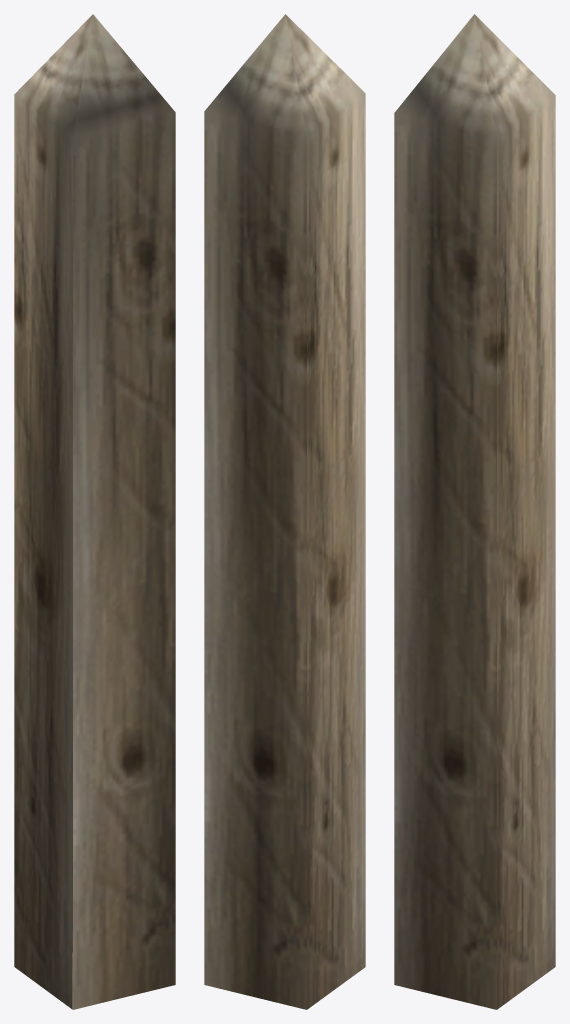
File: westfallfencepost.obj
3 renders of one model, left to right at view 1: azimuth 30°, elevation 25°; view 2: azimuth 150°, elevation 25°; view 3: azimuth 330°, elevation 25°, orthographic.
Visible parts, largest first — view 1: WESTFALLFENCEPOST0; view 2: WESTFALLFENCEPOST0; view 3: WESTFALLFENCEPOST0.
Boxes of the visible parts, x1,y1,x2,y2 form: WESTFALLFENCEPOST0: [14, 14, 175, 1009]; WESTFALLFENCEPOST0: [204, 14, 365, 1009]; WESTFALLFENCEPOST0: [394, 14, 555, 1009].
Size of the model in its own units: 0.2748 by 2.46 by 0.2725.
Materials: 1 (1 with a texture image).
